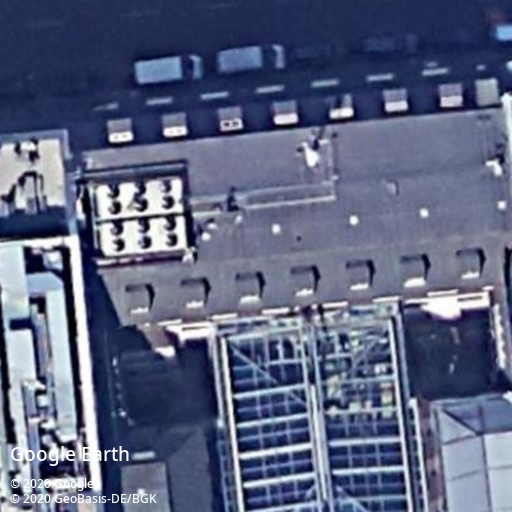Chiller: (94, 171, 185, 221), (95, 213, 190, 256)
